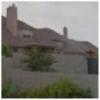chimneys: (6, 4, 19, 38), (63, 26, 68, 41)
